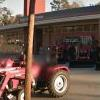Tractor: (4, 46, 82, 100)
